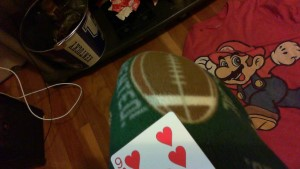NineOfHearts: (110, 110, 217, 169)
